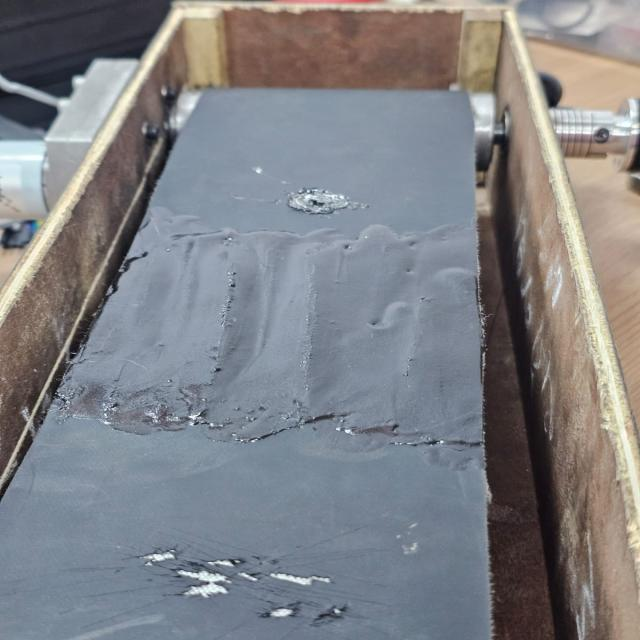Joint_Damage: (146, 225, 484, 440)
punture: (285, 187, 369, 216)
scratch: (138, 540, 412, 633)
